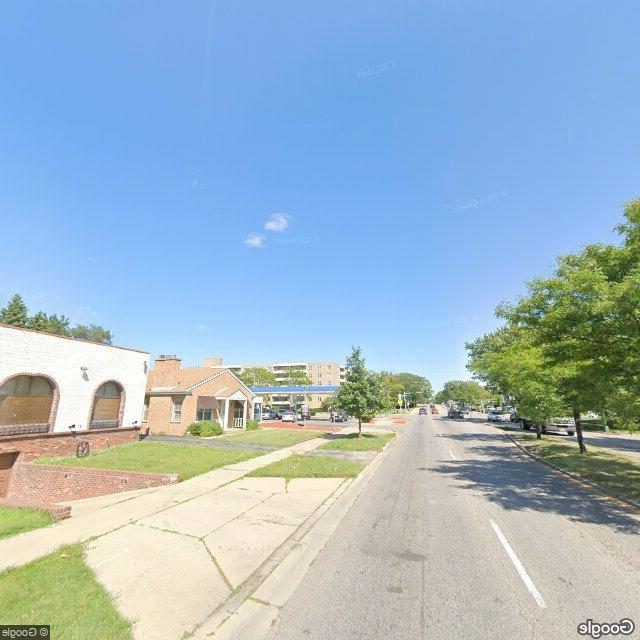pothole: (495, 551, 544, 639)
